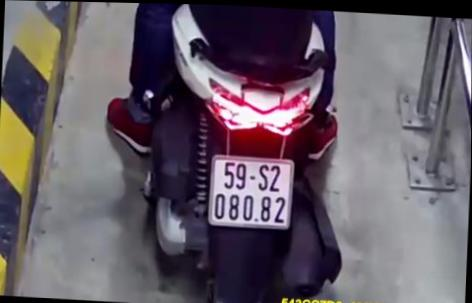LP: (208, 151, 295, 228)
